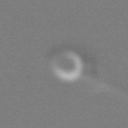abnormal: (81, 70, 128, 104)
